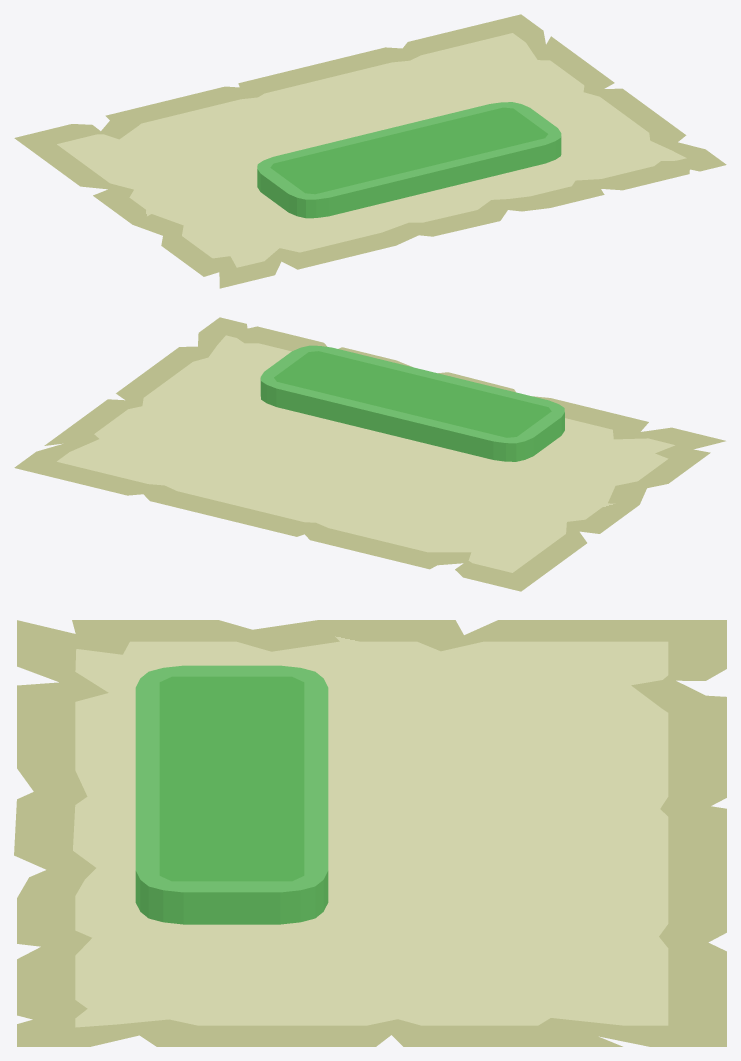
The model's file is info_canvas_small.glb.
3 renders of one model, top to bottom at view 1: azimuth 30°, elevation 25°; view 2: azimuth 150°, elevation 25°; view 3: azimuth 270°, elevation 25°, orthographic. The views are drawn at different scales.
Parts seen in each view (by area): view 1: hoja.003; view 2: hoja.003; view 3: hoja.003.
Boxes of the visible parts, bbox=[...] form: hoja.003: bbox=[14, 14, 726, 288]; hoja.003: bbox=[14, 317, 725, 591]; hoja.003: bbox=[14, 620, 726, 1046].
Size of the model in its own units: 1.05 by 0.061 by 0.7436.
1 material, 1 textured.
